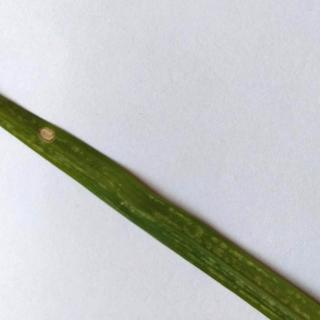Blast: (18, 108, 100, 173)
